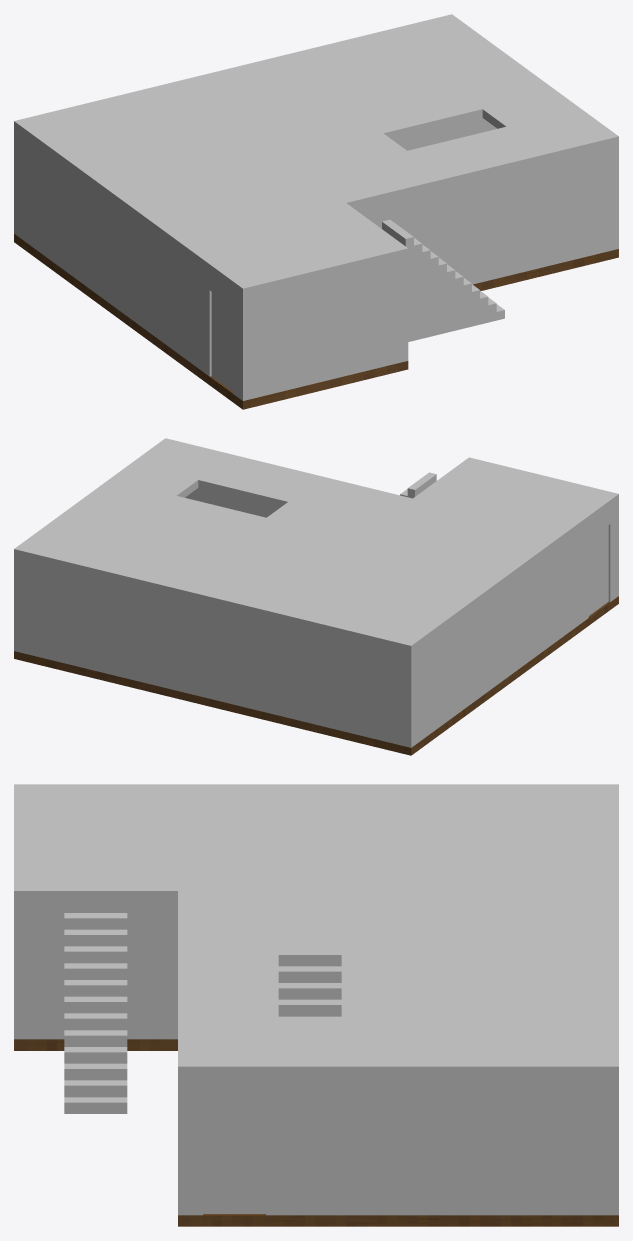
The model's file is house.obj.
The picture shows the model from 3 angles, top to bottom: view 1: azimuth 30°, elevation 25°; view 2: azimuth 150°, elevation 25°; view 3: azimuth 270°, elevation 25°; orthographic projection. The views are drawn at different scales.
Visible parts, largest first — view 1: Ceiling, Wall, Stairs, Floor, Back_door; view 2: Ceiling, Wall, Floor, Back_door; view 3: Ceiling, Wall, Stairs, Front_door, Floor, Stairs_upper.
Part boxes in pixels (<box>): Ceiling: <box>14,14,618,297</box>; Wall: <box>14,118,618,400</box>; Stairs: <box>382,219,504,341</box>; Floor: <box>14,234,618,409</box>; Back_door: <box>211,292,233,391</box>; Ceiling: <box>14,438,618,653</box>; Wall: <box>14,488,618,747</box>; Floor: <box>14,596,618,755</box>; Back_door: <box>588,525,608,615</box>; Ceiling: <box>14,784,618,1077</box>; Wall: <box>14,902,618,1215</box>; Stairs: <box>64,913,127,1113</box>; Front_door: <box>203,1101,265,1213</box>; Floor: <box>14,1039,618,1226</box>; Stairs_upper: <box>278,966,341,1018</box>.
Size of the model in its own units: 10.6 by 2.8 by 9.6.
